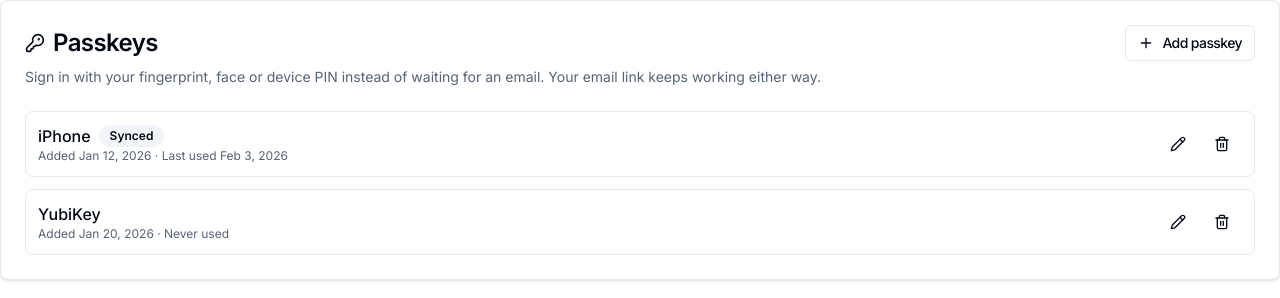
Test: PasskeysCard › renames a passkey in place
The width and height of the screenshot is (1280, 298).
Expected: the text "iPhone" is shown, [38,124,91,148]
Click the button named "Rename iPhone" at x=1178, y=144, box [1158,126,1198,162]
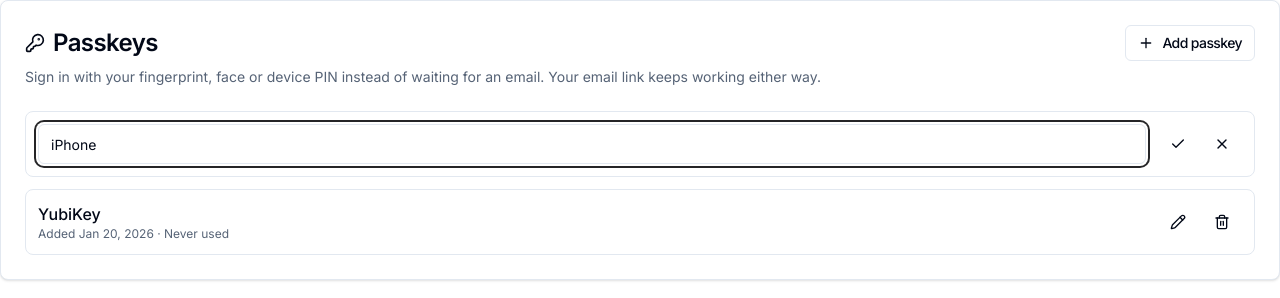
Replace the text in the field named "Passkey name" with "Work phone" at x=592, y=144, box [38,124,1146,164]
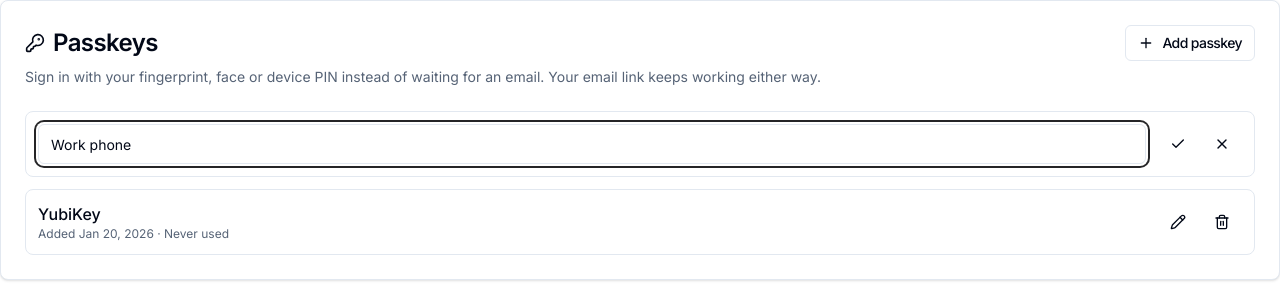
Click the button named "Save name" at x=1178, y=144, box [1158,126,1198,162]
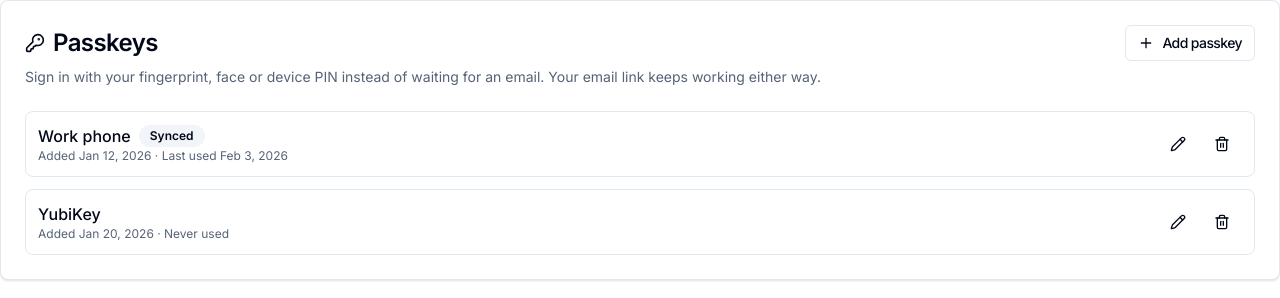
Now the text "Work phone" is shown, box [38,124,131,148]
